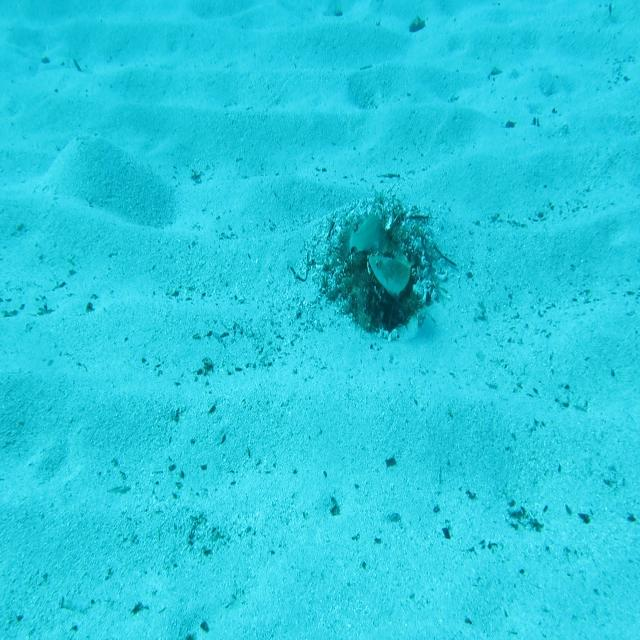BEND: (368, 244, 416, 299)
female: (338, 210, 382, 262)
nest: (313, 204, 447, 346)
